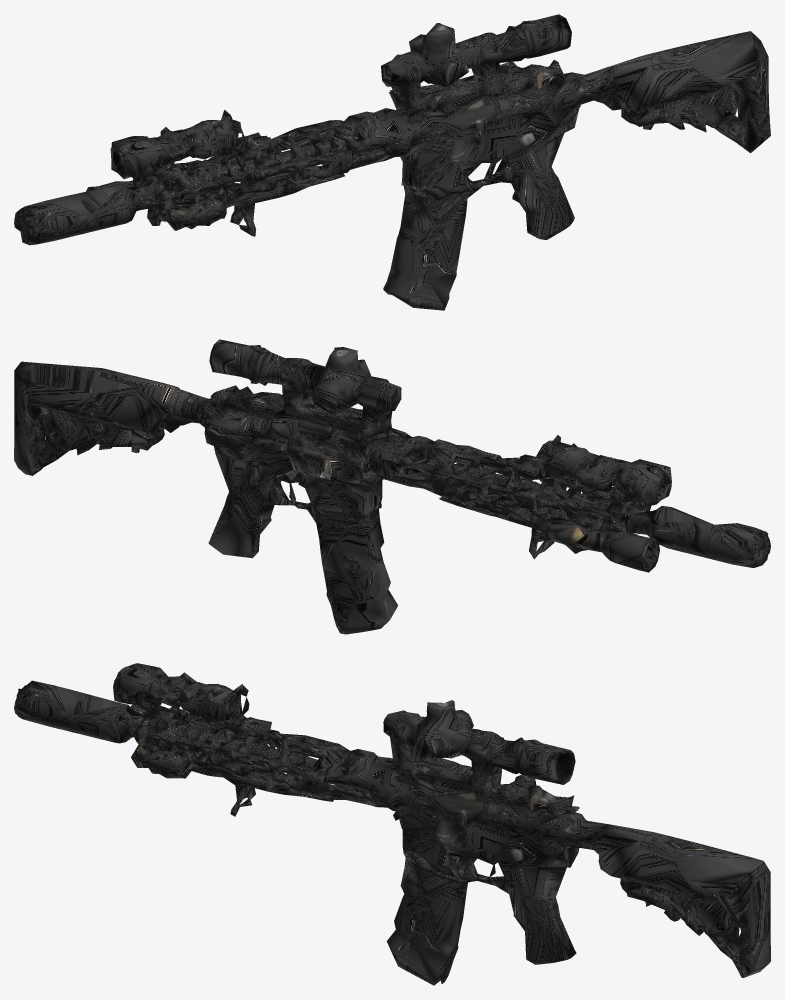
Rendered from mx_dr_w_sniper.glb.
3 views of the same model, one above another, from view 1: azimuth 30°, elevation 25°; view 2: azimuth 150°, elevation 25°; view 3: azimuth 330°, elevation 25° (orthographic).
Visible parts, largest first — view 1: Mesh_0; view 2: Mesh_0; view 3: Mesh_0.
Boxes of the visible parts, box(x1,y1,x2,y2) form: Mesh_0: box(14, 14, 770, 310); Mesh_0: box(14, 339, 770, 634); Mesh_0: box(14, 663, 770, 985).
Size of the model in its own units: 1.9 by 0.6828 by 0.227.
Materials: 1 (1 with a texture image).
